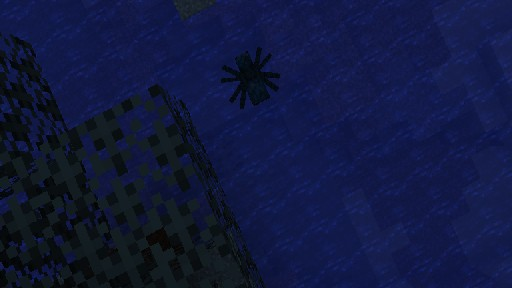cave_spider: (220, 46, 280, 109)
